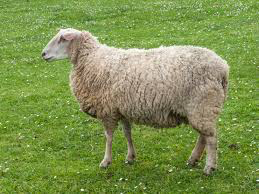koyun: (42, 24, 229, 175)
